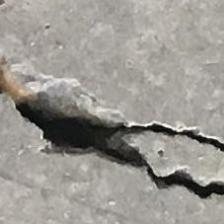Crack: (0, 49, 224, 206)
